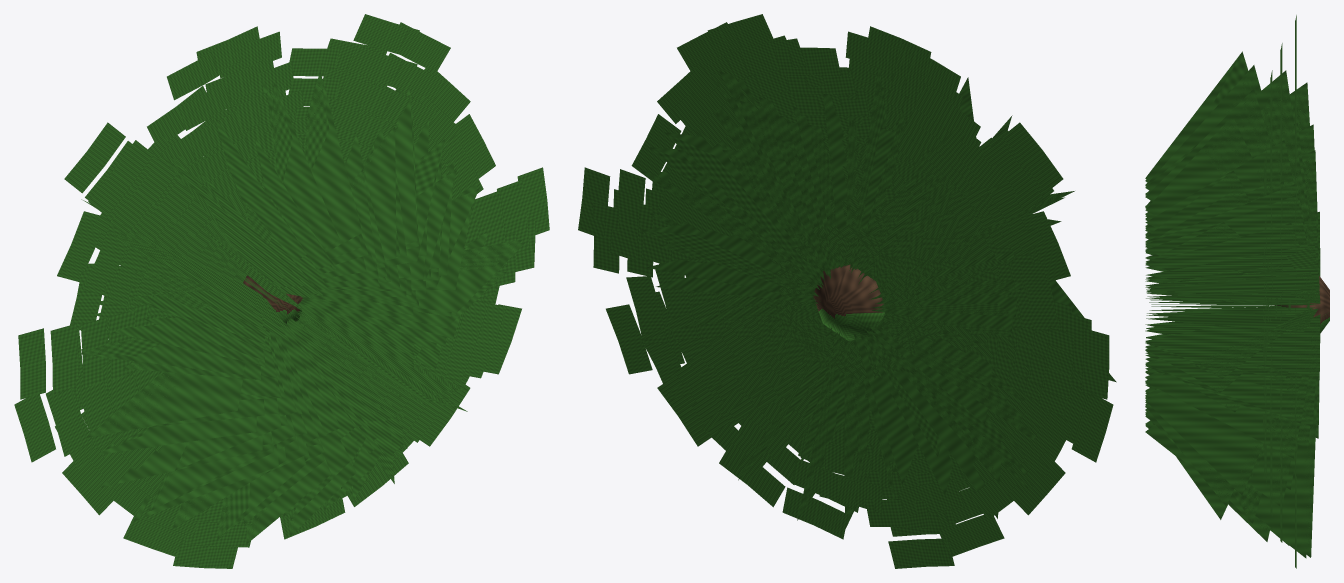
File: veg_ground_fern_01.glb
3 views of the same model, side by side, from view 1: azimuth 30°, elevation 25°; view 2: azimuth 150°, elevation 25°; view 3: azimuth 270°, elevation 25° (orthographic). The views are drawn at different scales.
Visible parts, largest first — view 1: veg_ground_fern_01; view 2: veg_ground_fern_01; view 3: veg_ground_fern_01.
Boxes of the visible parts, x1,y1,x2,y2 form: veg_ground_fern_01: (14, 14, 549, 568); veg_ground_fern_01: (578, 14, 1116, 568); veg_ground_fern_01: (1145, 15, 1329, 568).
Size of the model in its own units: 2.12 by 2.03 by 0.65.
Materials: 1 (1 with a texture image).
